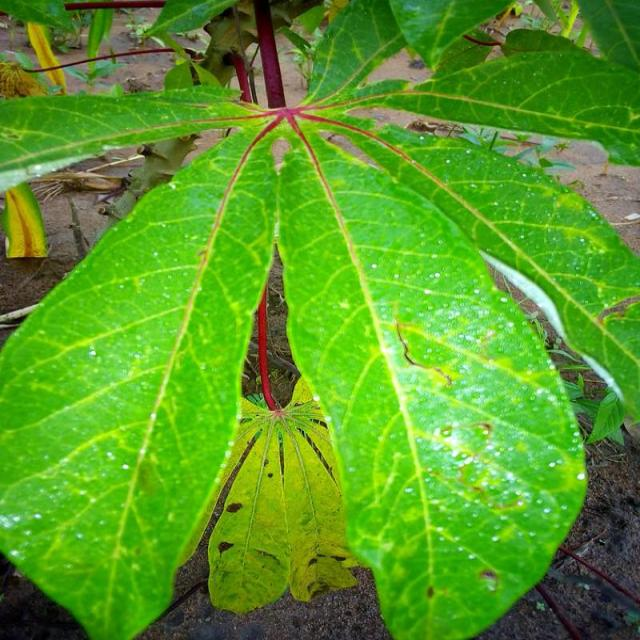cassava leaf: (2, 2, 639, 638), (276, 119, 590, 638), (2, 115, 279, 638), (362, 119, 640, 431), (206, 374, 359, 616)
